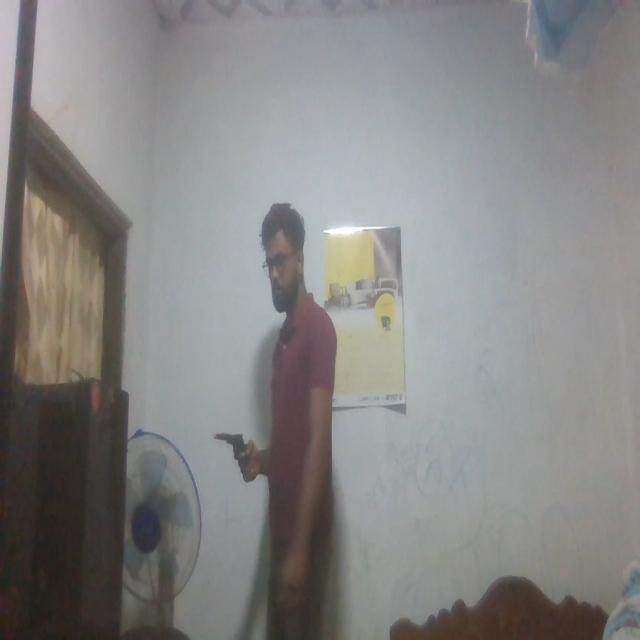Gun_Holder: (215, 430, 252, 478)
Person: (243, 201, 343, 640)
